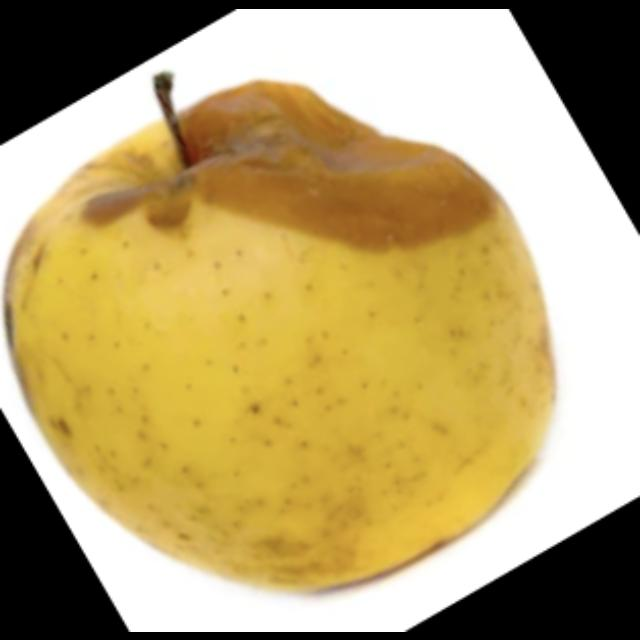Apel Tidak Segar: (0, 78, 558, 592)
